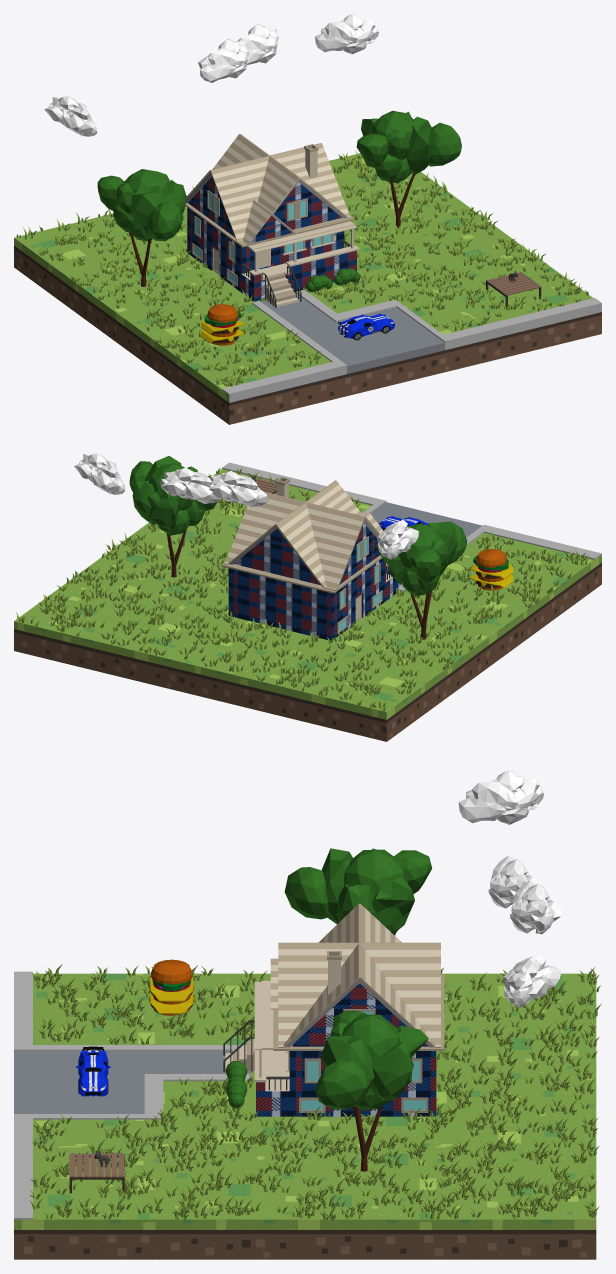
The picture shows the model from 3 angles, top to bottom: view 1: azimuth 30°, elevation 25°; view 2: azimuth 150°, elevation 25°; view 3: azimuth 270°, elevation 25°; orthographic projection. The views are drawn at different scales.
Visible parts, largest first — view 1: Cube.006, Cube.171, Circle.012_Grass_0.192, Cube.007, tree, tree.001, OBJRANDOM_HAMBURGER, VEHICLES_RACING_CAR, Cube.009; view 2: Cube.006, Cube.171, Circle.012_Grass_0.192, Cube.007, tree.001, tree, OBJRANDOM_HAMBURGER; view 3: Cube.006, Circle.012_Grass_0.192, Cube.171, tree, Cube.007, tree.001, OBJRANDOM_HAMBURGER, Cube.009, VEHICLES_RACING_CAR.
Part boxes in pixels (x1,y1,x2,y2): Cube.006: [14, 153, 601, 424]; Cube.171: [185, 134, 359, 307]; Circle.012_Grass_0.192: [16, 150, 588, 386]; Cube.007: [44, 14, 378, 136]; tree: [356, 110, 461, 228]; tree.001: [97, 169, 186, 286]; OBJRANDOM_HAMBURGER: [201, 304, 244, 345]; VEHICLES_RACING_CAR: [338, 313, 394, 340]; Cube.009: [486, 272, 541, 306]; Cube.006: [14, 462, 601, 741]; Cube.171: [221, 477, 398, 640]; Circle.012_Grass_0.192: [16, 468, 588, 711]; Cube.007: [74, 453, 418, 559]; tree.001: [375, 521, 467, 639]; tree: [129, 456, 216, 577]; OBJRANDOM_HAMBURGER: [469, 549, 513, 590]; Cube.006: [14, 971, 596, 1259]; Circle.012_Grass_0.192: [29, 964, 601, 1220]; Cube.171: [223, 903, 444, 1116]; tree: [315, 1010, 428, 1171]; Cube.007: [458, 770, 561, 1007]; tree.001: [284, 848, 432, 935]; OBJRANDOM_HAMBURGER: [149, 959, 194, 1015]; Cube.009: [69, 1153, 124, 1193]; VEHICLES_RACING_CAR: [76, 1046, 110, 1096].
Size of the model in its own units: 4071 by 2192 by 4040.
Materials: 37 (4 with a texture image).
